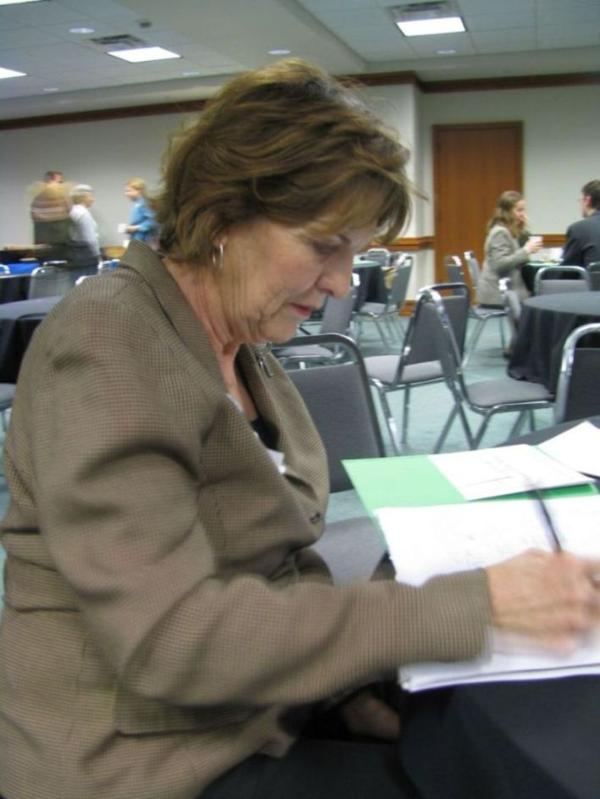person: (4, 64, 597, 798)
